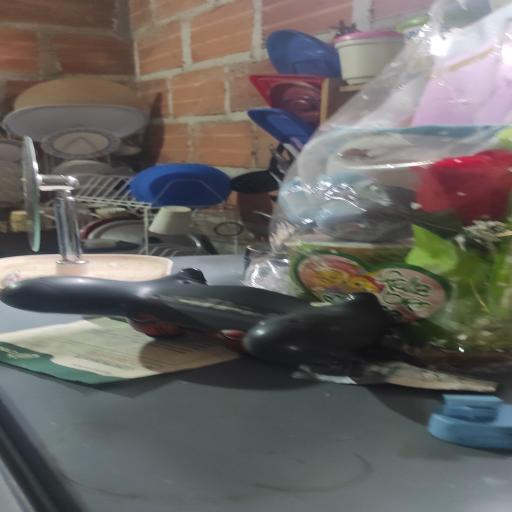ControlPlay4: (0, 268, 391, 364)
